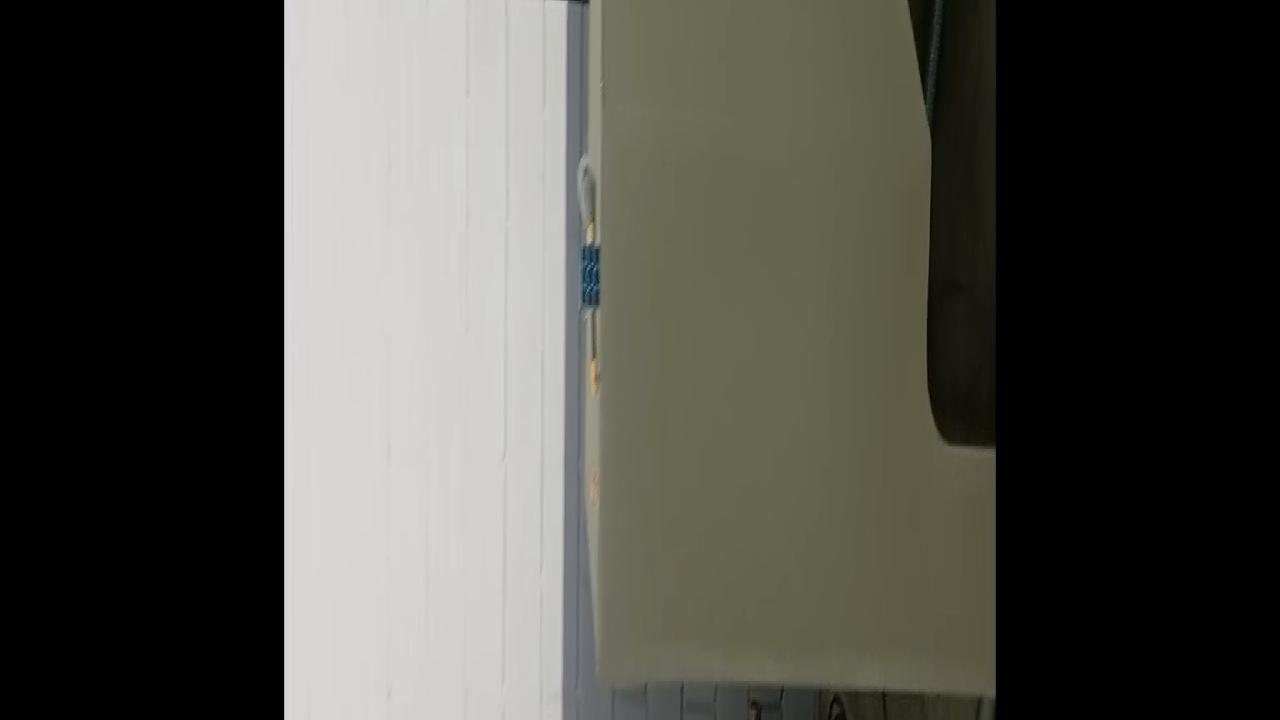Cube: (579, 244, 600, 312)
